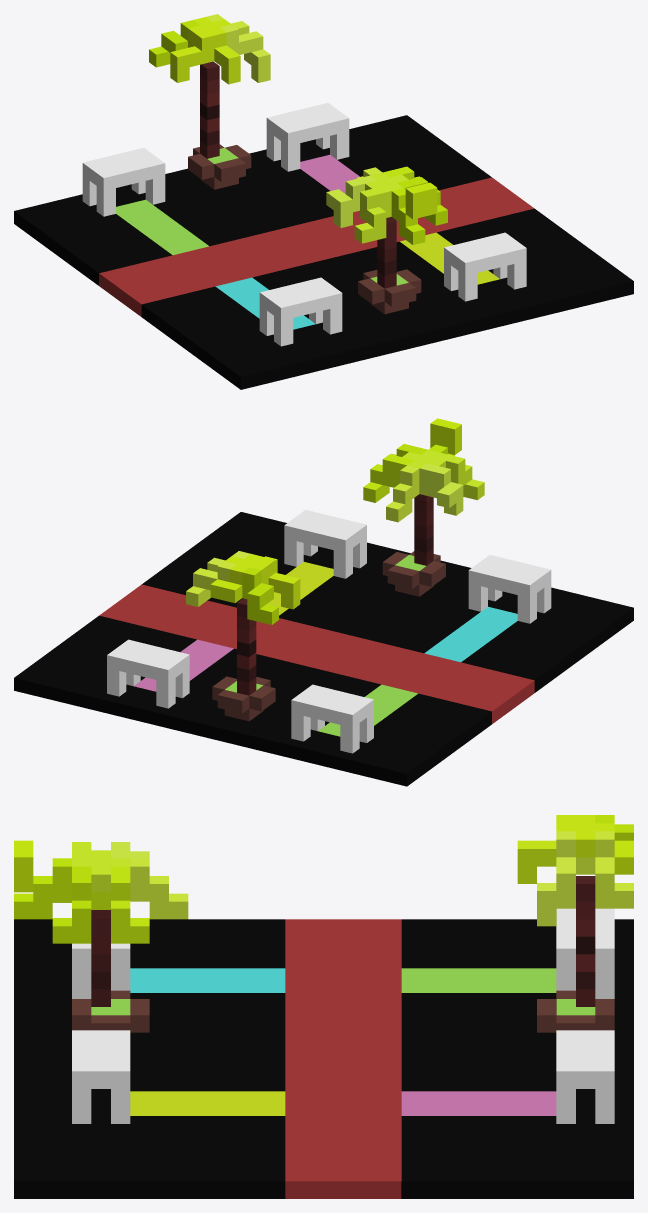
Rendered from convention256.obj.
3 views of the same model, one above another, from view 1: azimuth 30°, elevation 25°; view 2: azimuth 150°, elevation 25°; view 3: azimuth 270°, elevation 25° (orthographic). The views are drawn at different scales.
Bounding box in the file's own units: 25.6 × 10.4 × 25.6.
1 material, 1 textured.
